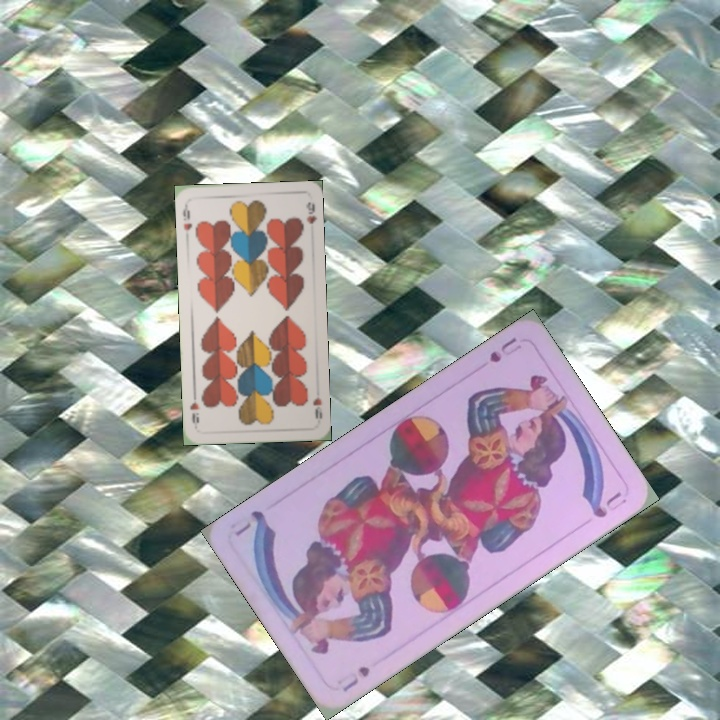H9: (179, 200, 194, 233), (309, 393, 325, 421)
SU: (338, 662, 373, 695), (485, 333, 520, 366)
